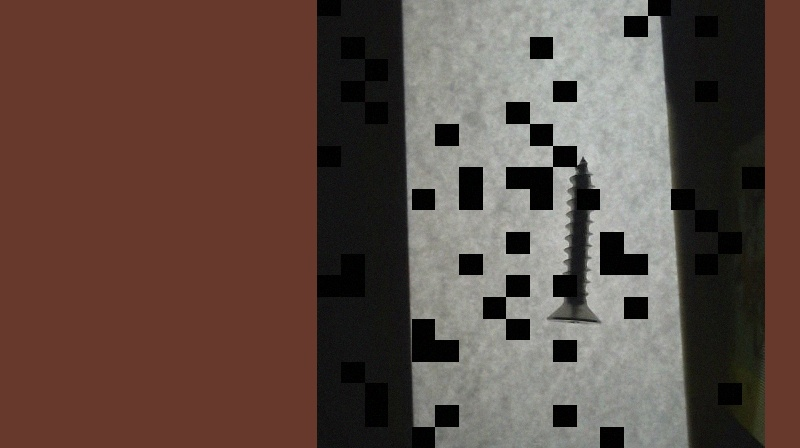S001: (544, 153, 604, 328)
